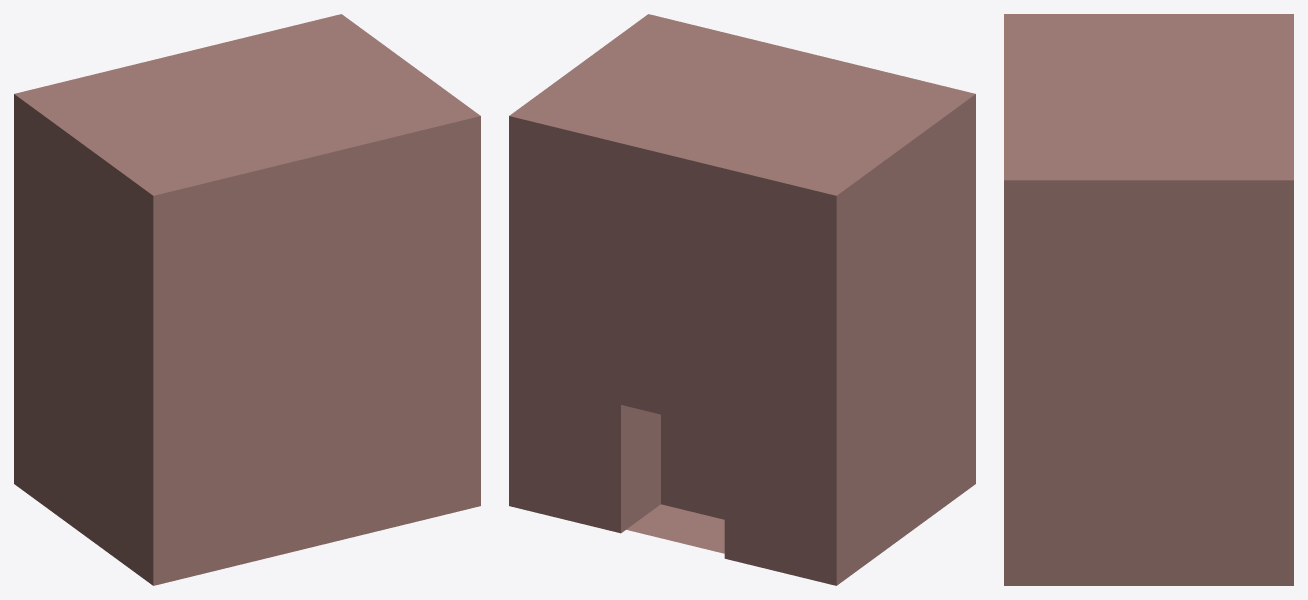
3 views of the same model, side by side, from view 1: azimuth 30°, elevation 25°; view 2: azimuth 150°, elevation 25°; view 3: azimuth 270°, elevation 25° (orthographic). The views are drawn at different scales.
Visible parts, largest first — view 1: 00_polygon0; view 2: 00_polygon0; view 3: 00_polygon0.
Boxes of the visible parts, x1,y1,x2,y2 form: 00_polygon0: (14, 14, 480, 585); 00_polygon0: (509, 14, 975, 585); 00_polygon0: (1004, 14, 1293, 585).
Size of the model in its own units: 0.2969 by 0.3379 by 0.2188.
